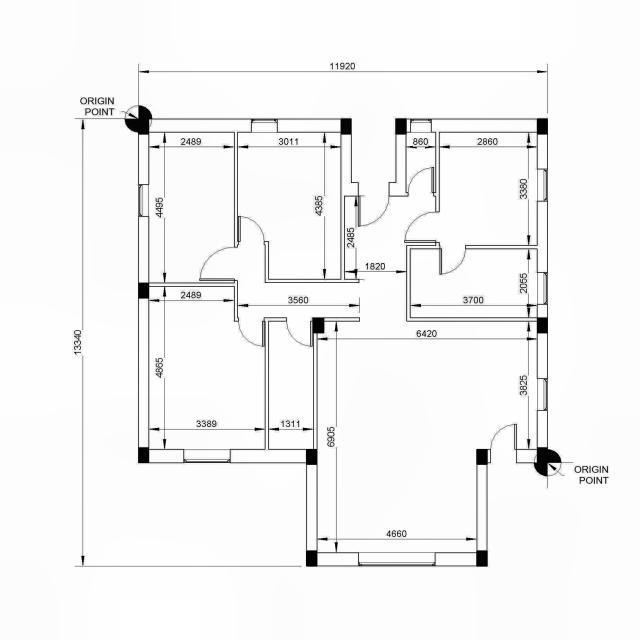Column: (306, 449, 318, 465), (306, 550, 318, 566), (476, 550, 488, 566), (476, 449, 488, 465), (312, 317, 324, 333), (395, 118, 407, 134), (138, 118, 149, 134), (138, 282, 149, 298), (537, 447, 548, 463), (537, 317, 548, 333), (341, 118, 352, 134), (537, 118, 548, 134), (138, 448, 149, 463)
Door: (199, 246, 238, 284), (358, 182, 390, 227), (404, 212, 440, 246), (488, 424, 517, 464), (406, 166, 436, 196), (237, 216, 266, 245), (238, 317, 265, 347), (439, 245, 466, 275), (286, 318, 313, 347)
Window: (358, 552, 436, 566), (183, 449, 230, 463), (537, 168, 548, 202), (537, 378, 548, 411), (537, 272, 548, 305), (138, 184, 149, 217), (251, 119, 278, 132), (410, 119, 432, 132)
